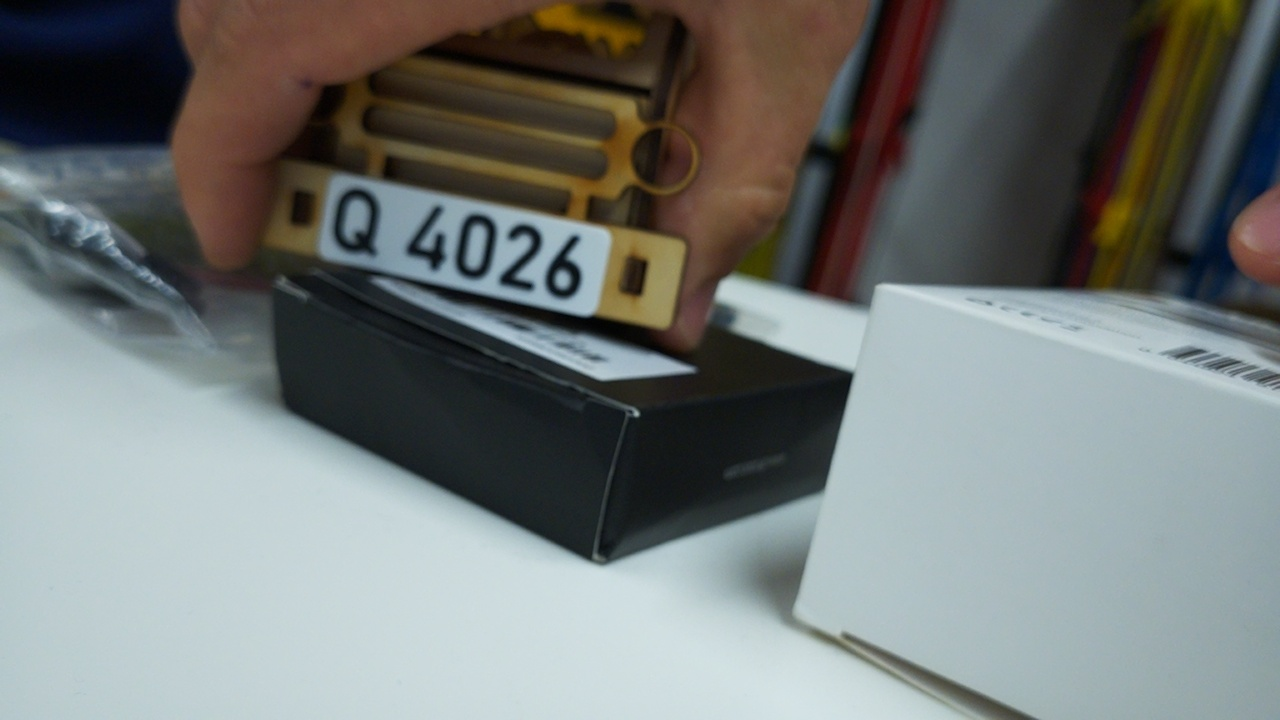license_plate: (317, 171, 613, 317)
